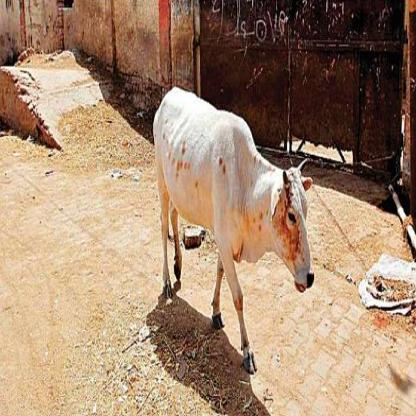cow: (154, 92, 319, 380)
injured: (285, 188, 299, 278)
